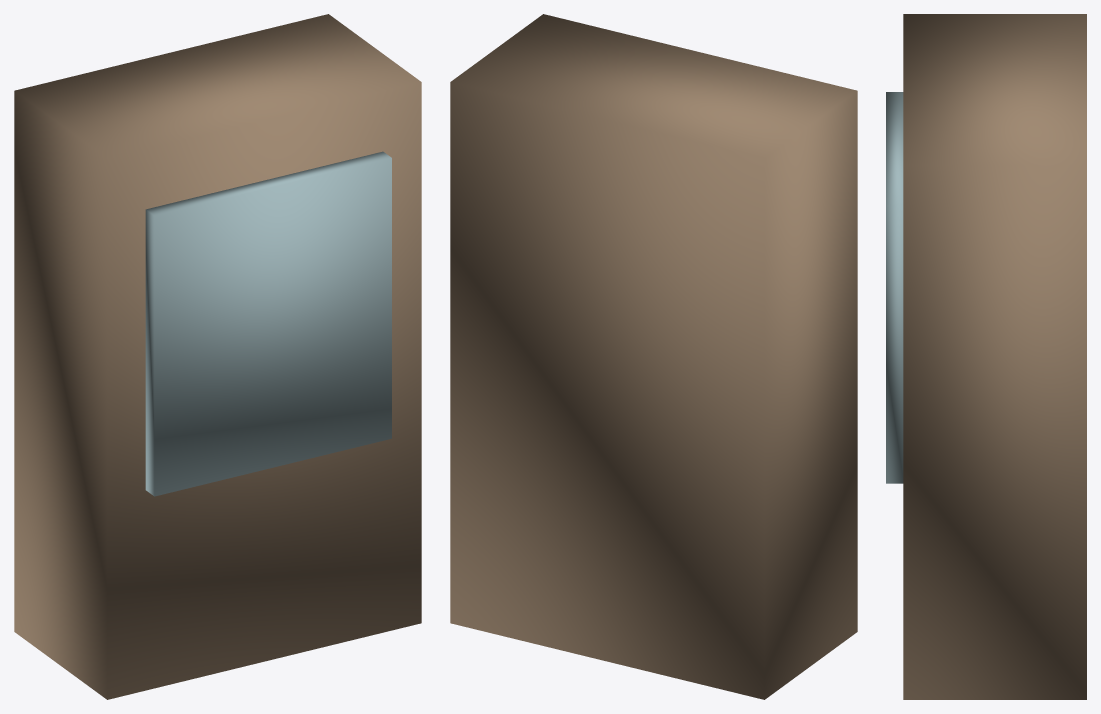
File: shrine_cabinet.glb
The picture shows the model from 3 angles, left to right: view 1: azimuth 30°, elevation 25°; view 2: azimuth 150°, elevation 25°; view 3: azimuth 270°, elevation 25°; orthographic projection.
Visible parts, largest first — view 1: world; view 2: world; view 3: world.
Part boxes in pixels (<box>): world: <box>14,14,421,699</box>; world: <box>450,14,857,699</box>; world: <box>886,14,1086,699</box>.
Bounding box in the file's own units: 0.82 × 1.35 × 0.46.
